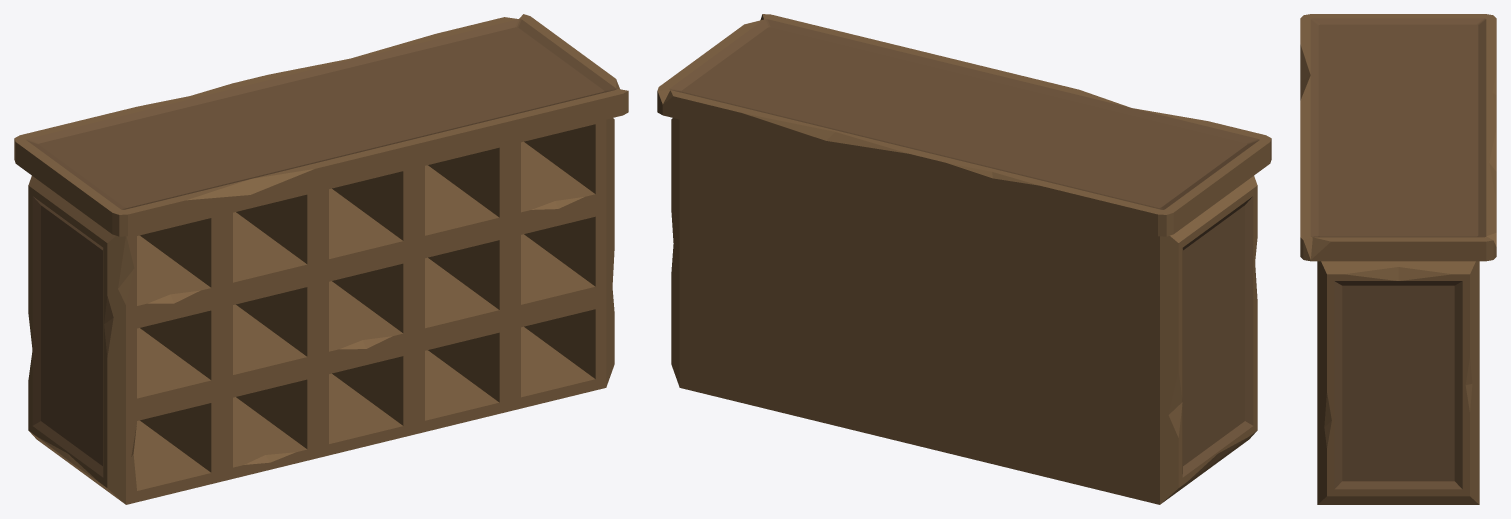
File: SFHW_Table_001.fbx
3 views of the same model, side by side, from view 1: azimuth 30°, elevation 25°; view 2: azimuth 150°, elevation 25°; view 3: azimuth 270°, elevation 25° (orthographic). The views are drawn at different scales.
Parts seen in each view (by area): view 1: SFHW_Table_001; view 2: SFHW_Table_001; view 3: SFHW_Table_001.
Boxes of the visible parts, left/top/right/bottom form: SFHW_Table_001: left=14, top=14, right=628, bottom=504; SFHW_Table_001: left=657, top=14, right=1271, bottom=504; SFHW_Table_001: left=1300, top=14, right=1496, bottom=504.
Size of the model in its own units: 170 by 94.48 by 61.95.
